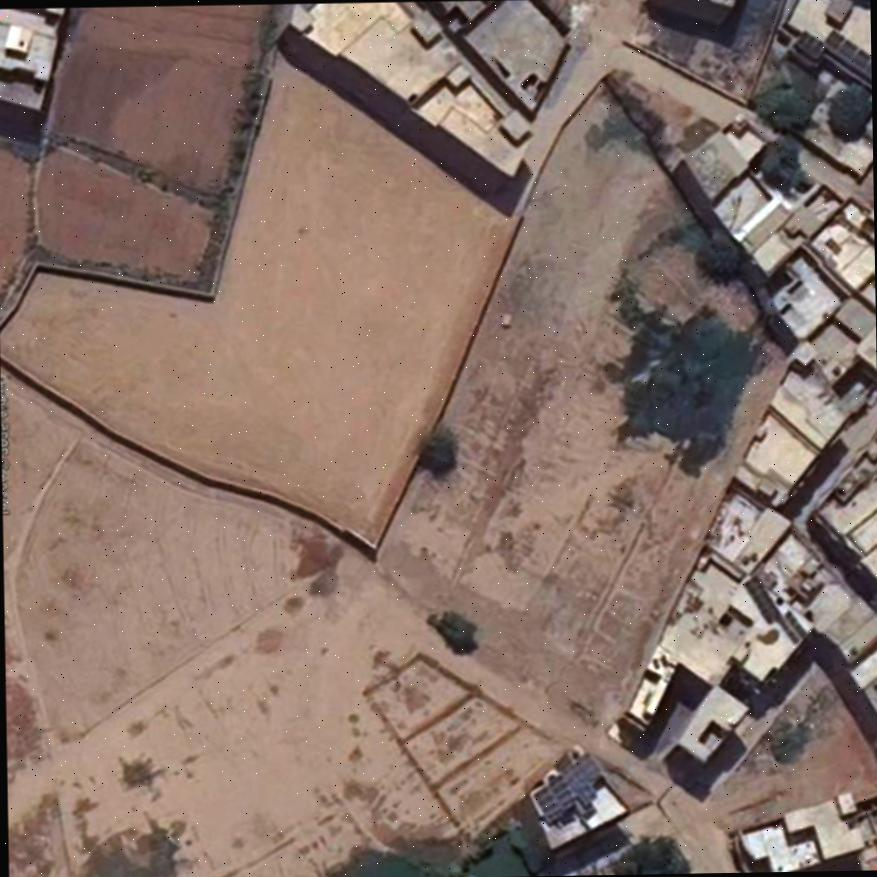Solarpanel: (532, 750, 608, 821)
